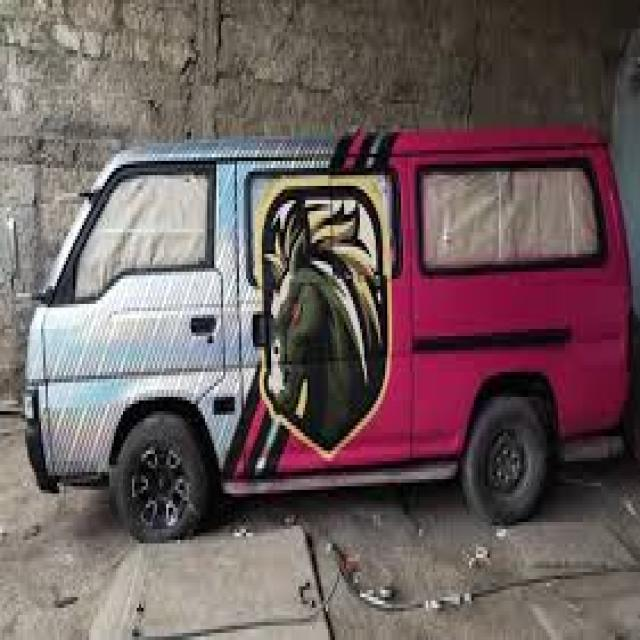matatu: (7, 70, 640, 574)
